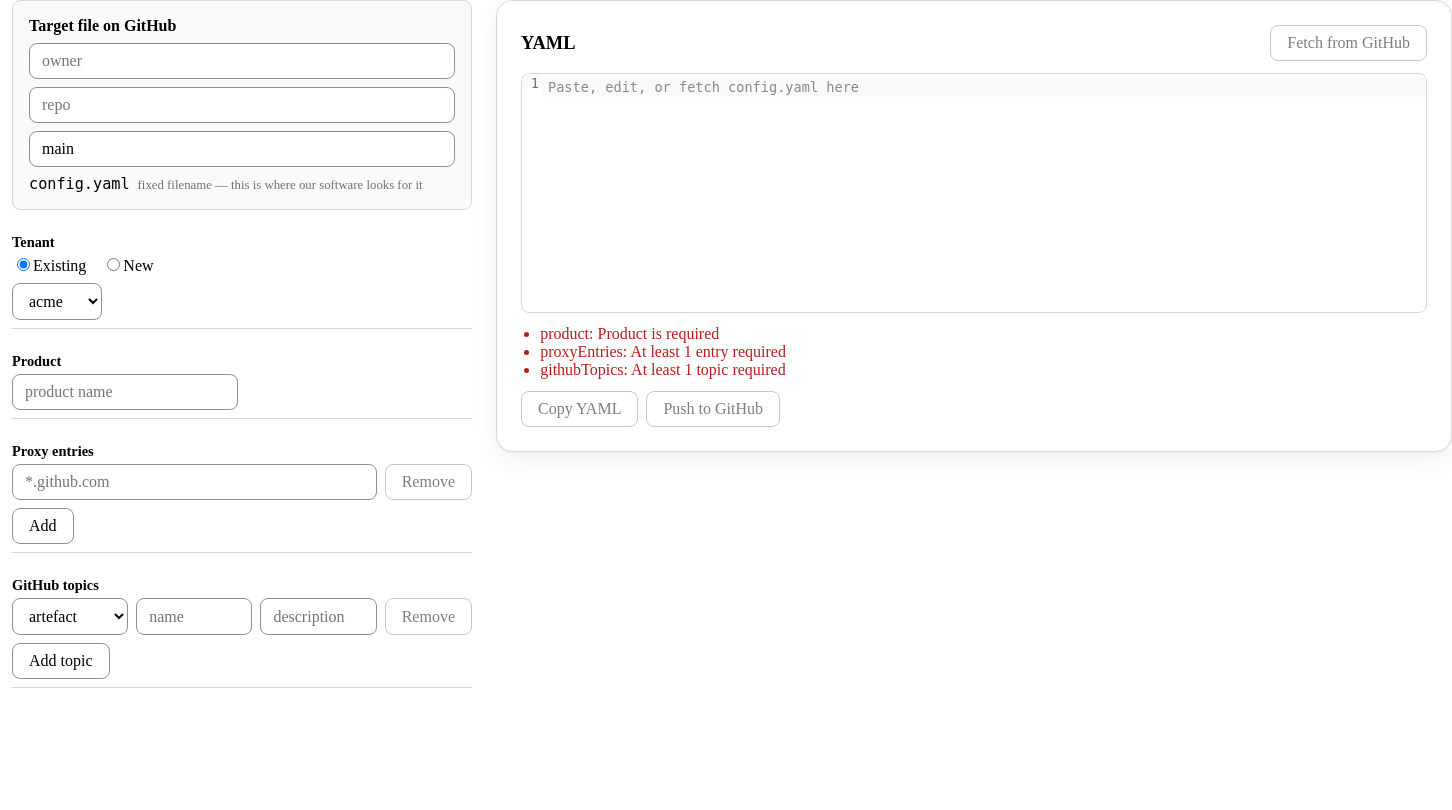
Test: ConfigWorkspace › Fetch from GitHub shows an error when the file cannot be fetched
In the field with placeholder "owner": (242, 61) 29,43 -> 455,79, type "acme-co"
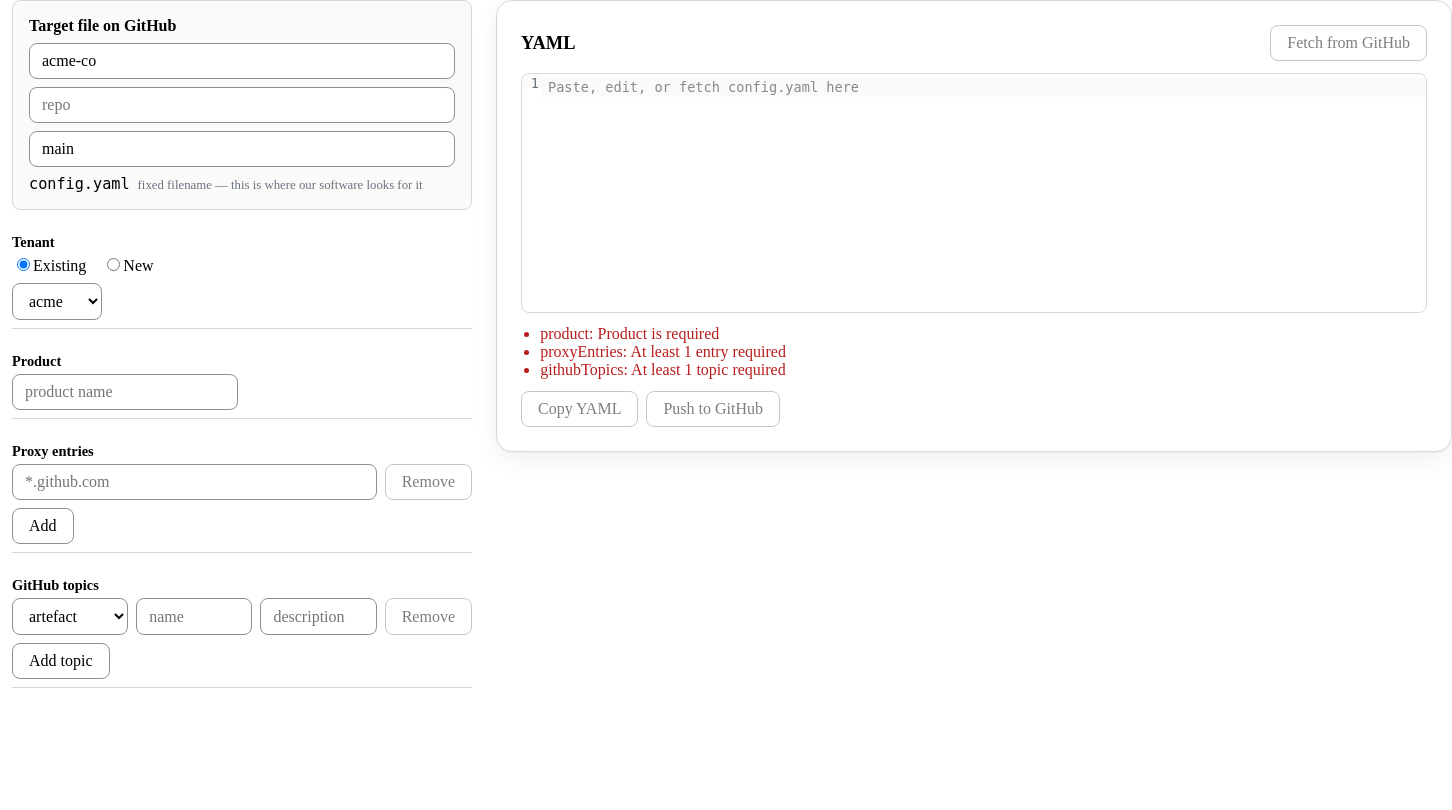
In the field with placeholder "repo": (242, 105) 29,87 -> 455,123, type "infra"
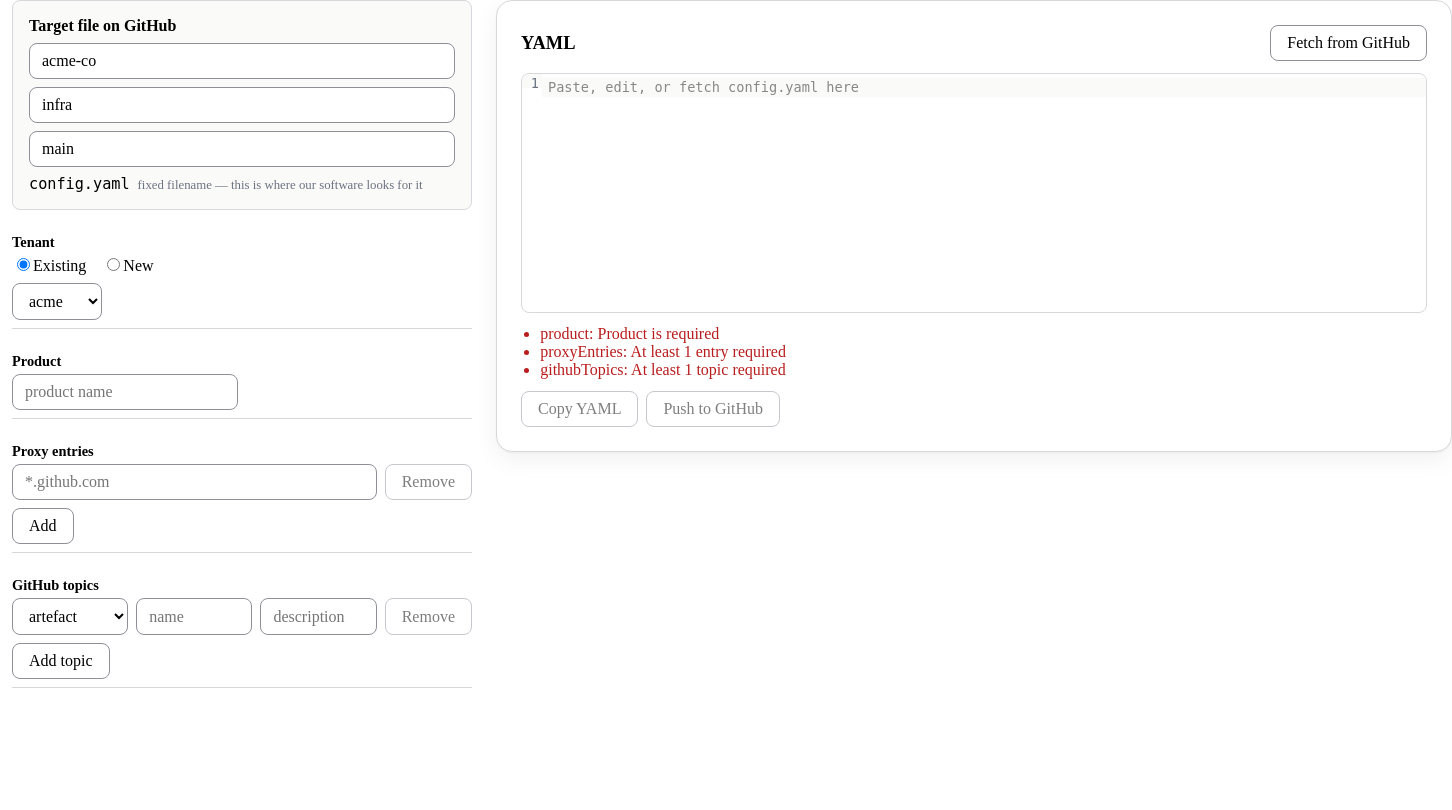
Click the button "Fetch from GitHub": (1349, 43) 1270,25 -> 1427,61
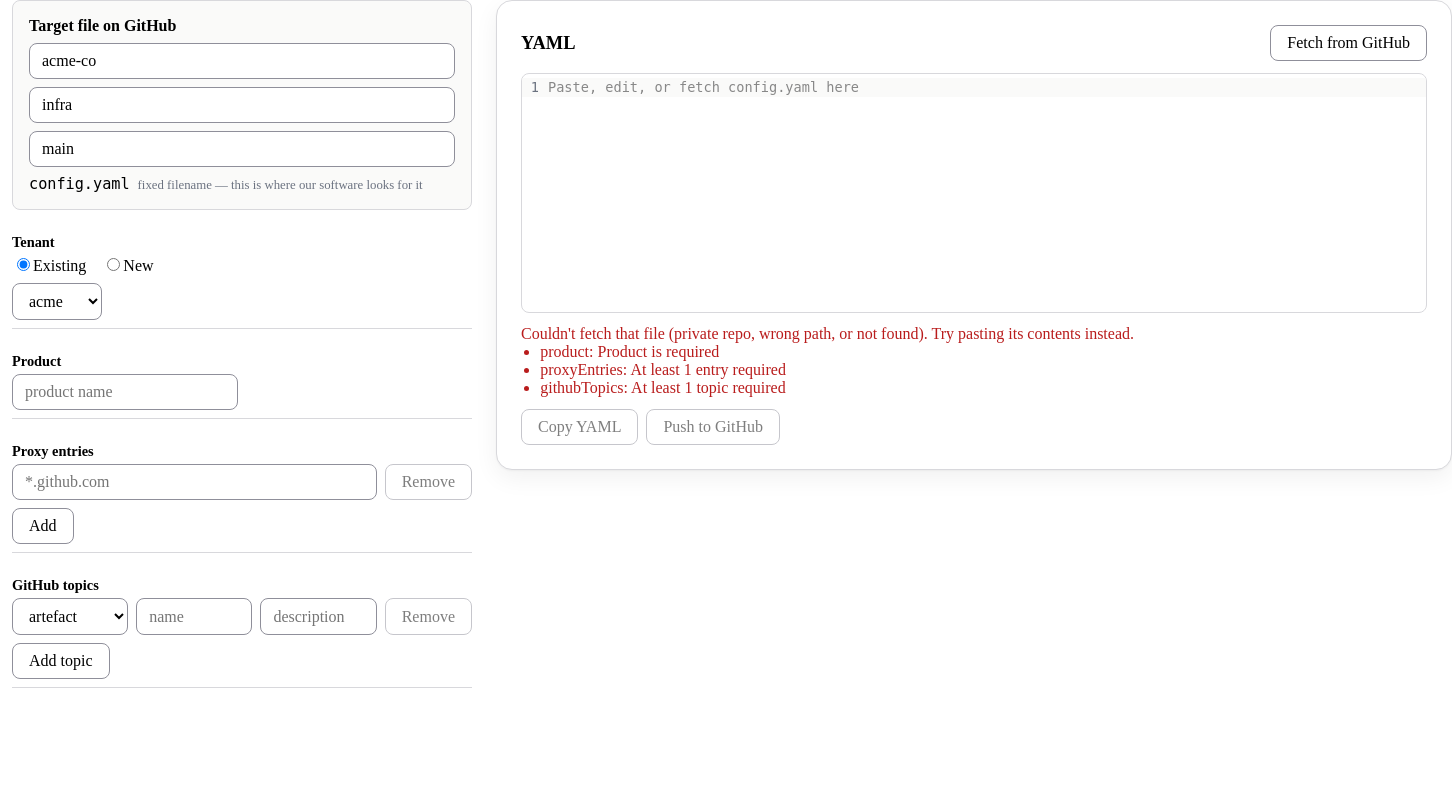
Expected: the text "Couldn't fetch that file" is shown, 521,325 -> 1134,342
